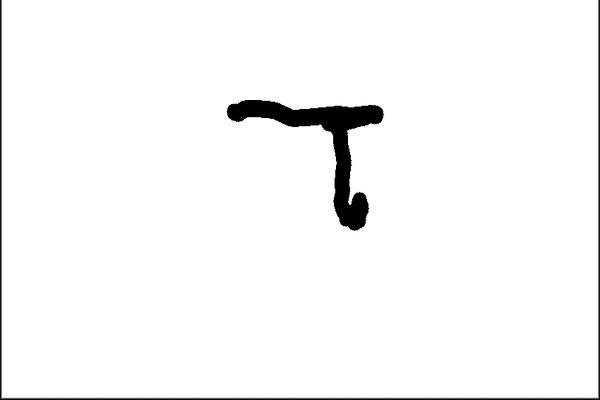T: (216, 86, 409, 240)
